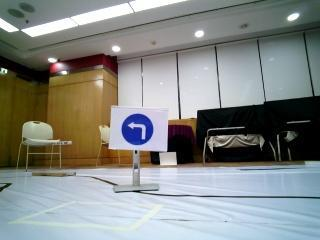left: (115, 106, 164, 152)
